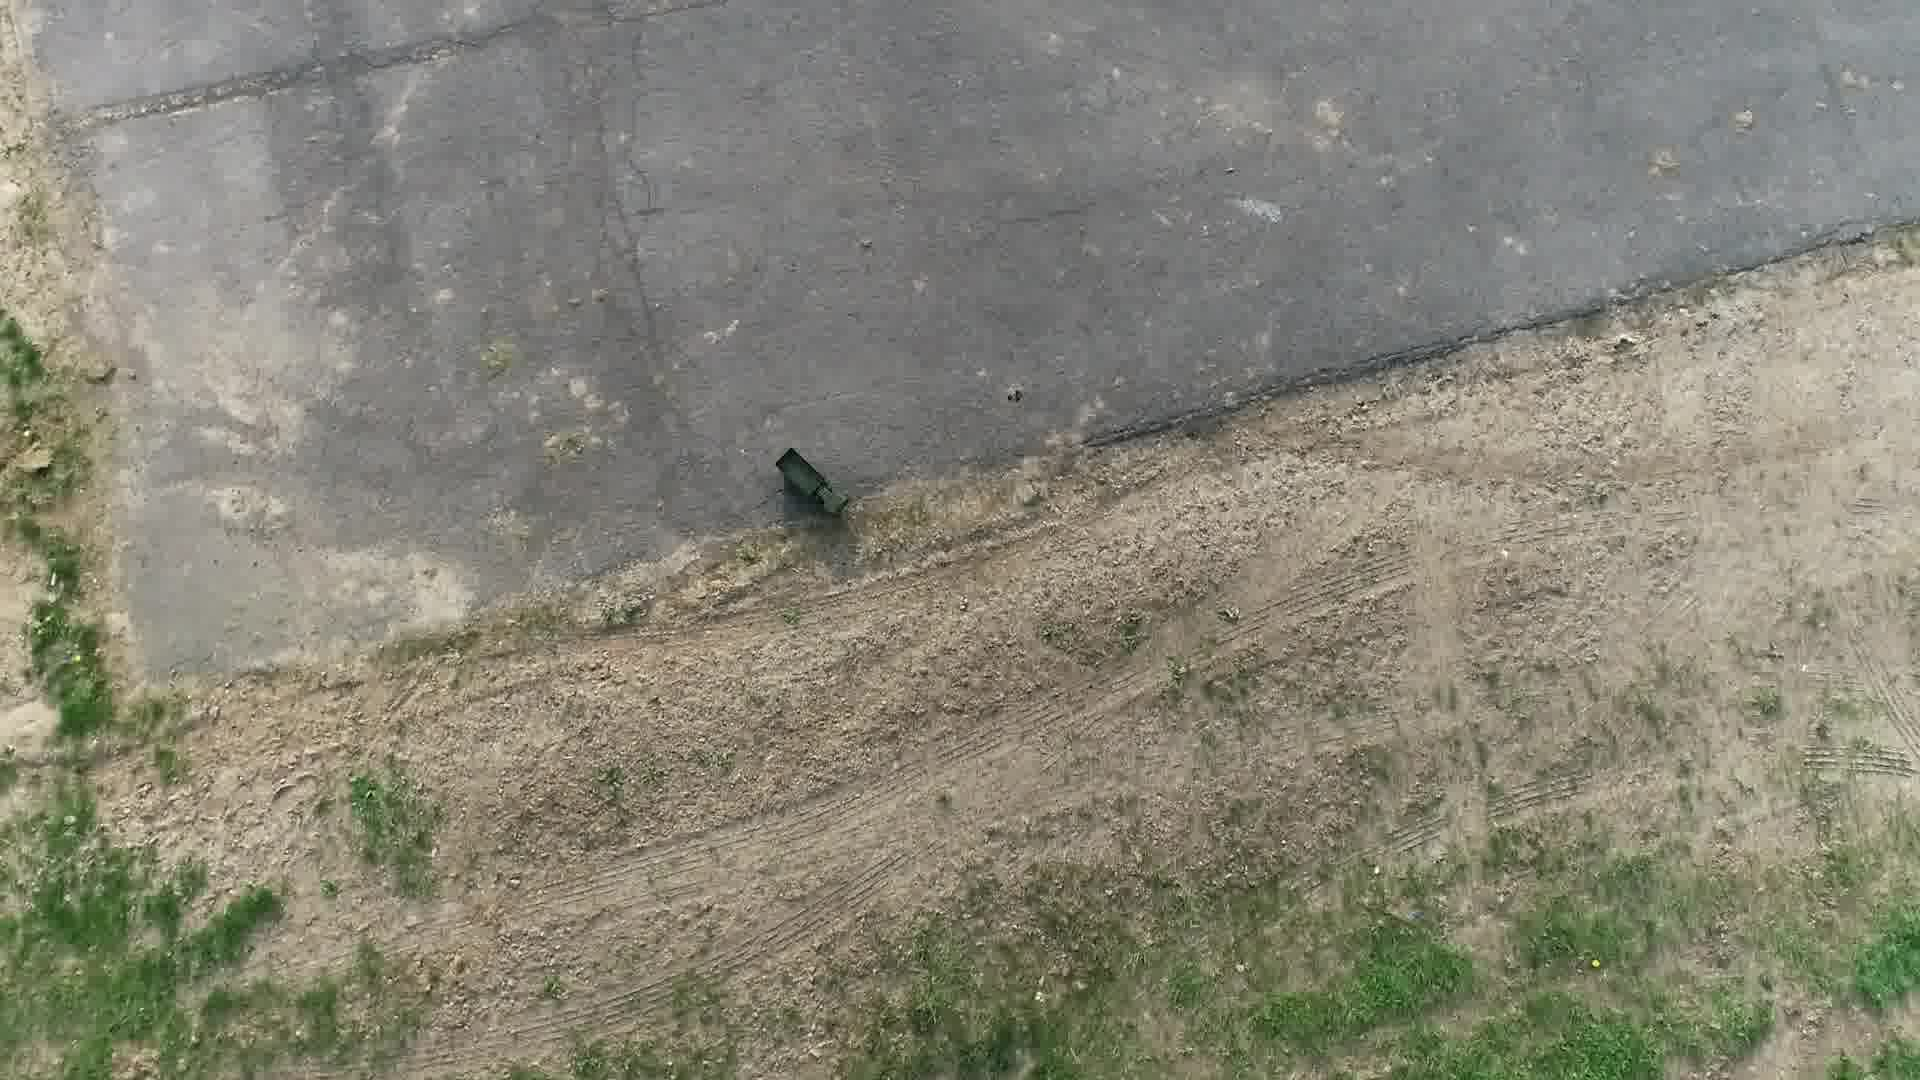transporter9: (765, 444, 853, 520)
